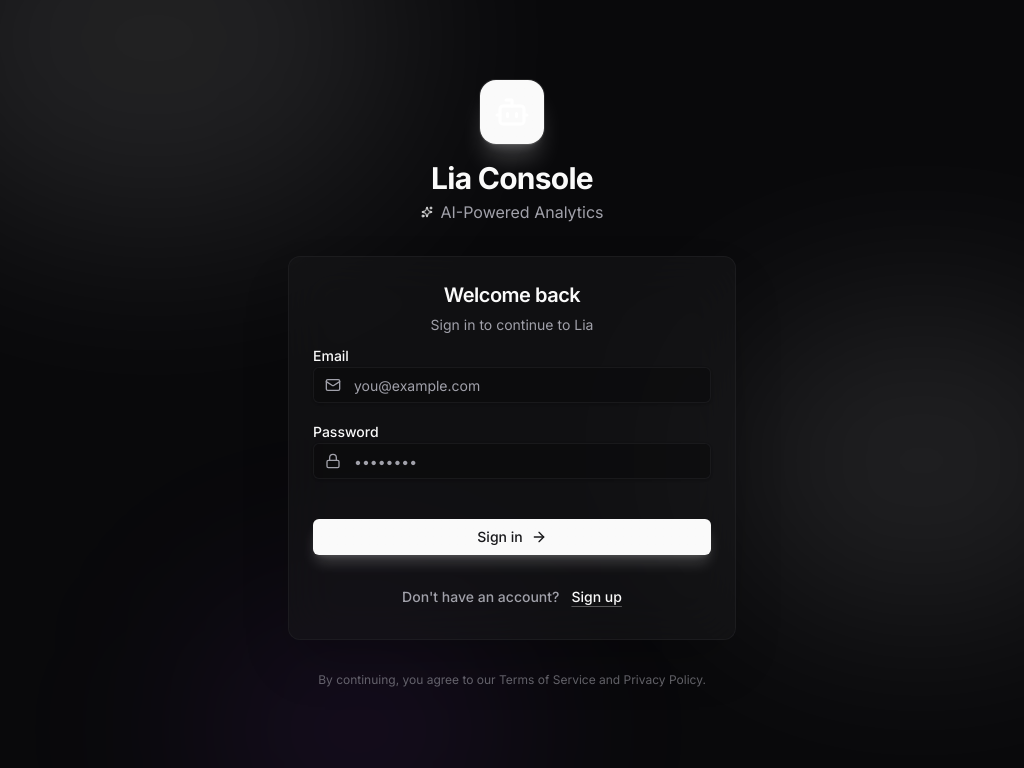
Test: AuthPage › Form Toggle › clears error when switching between login and register
In the field labelled "Email": [512, 385] box [313,367,711,403], type "test@example.com"
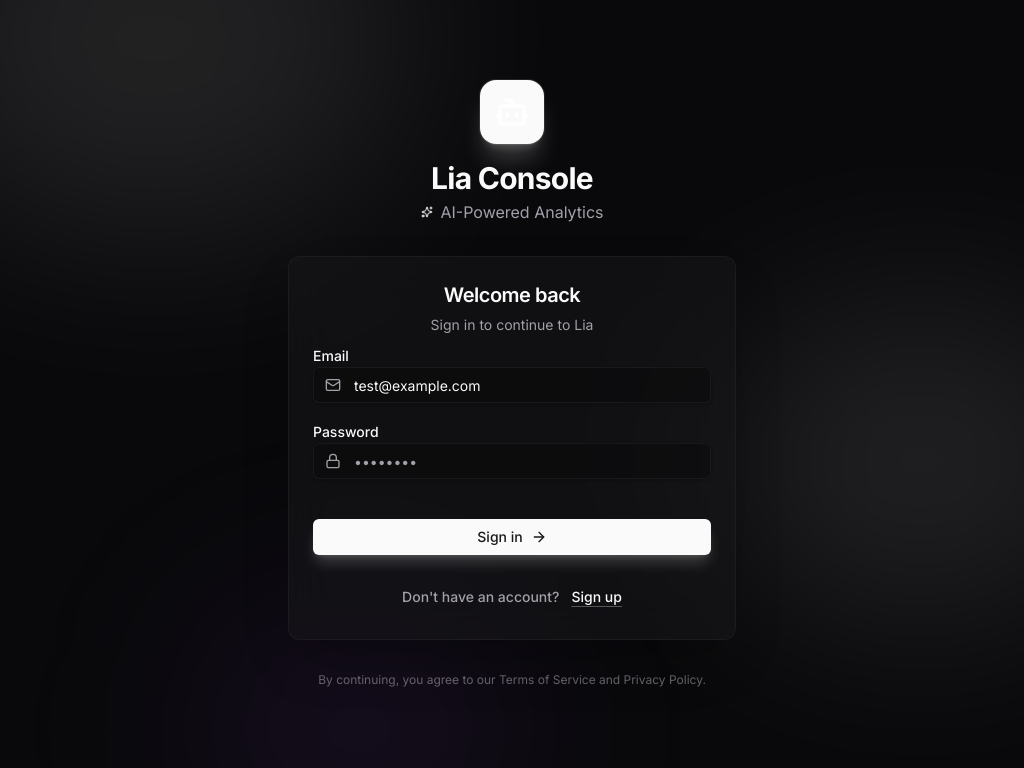
In the password field labelled "Password": [512, 461] box [313,443,711,479], type "wrongpassword"
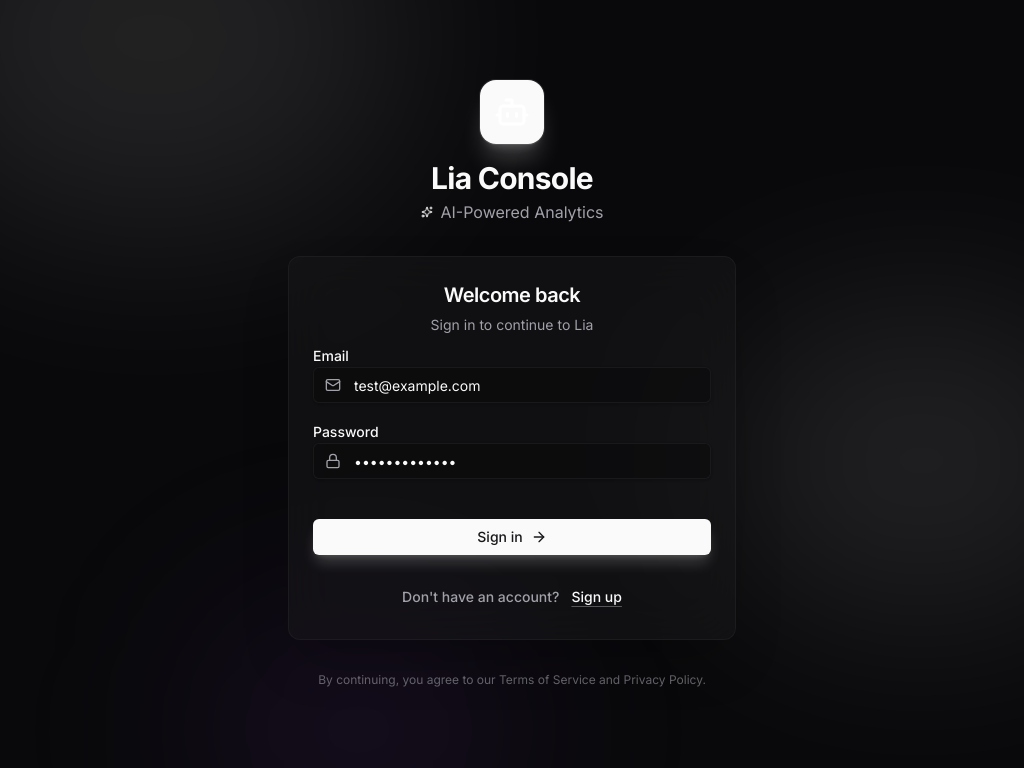
Click the button "Sign in": [512, 537] box [313,519,711,555]
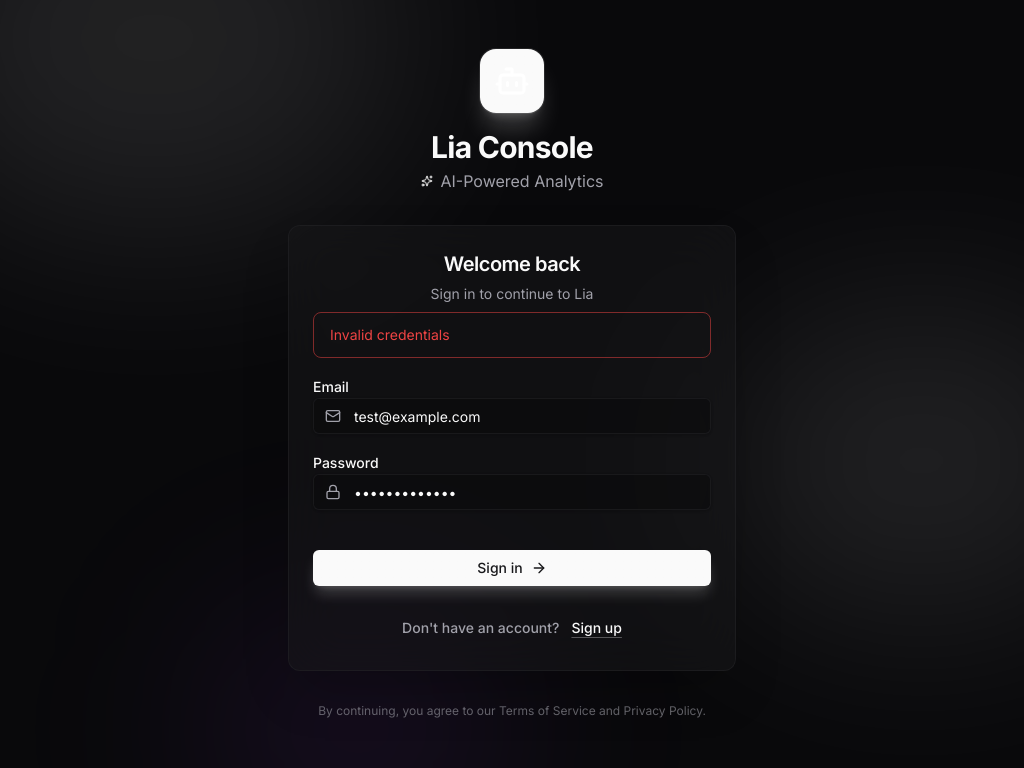
Expected: the text "Invalid credentials" is shown, [330,326,450,343]
Click the button "Don't have an account? Sign up": [512, 628] box [386,610,638,646]
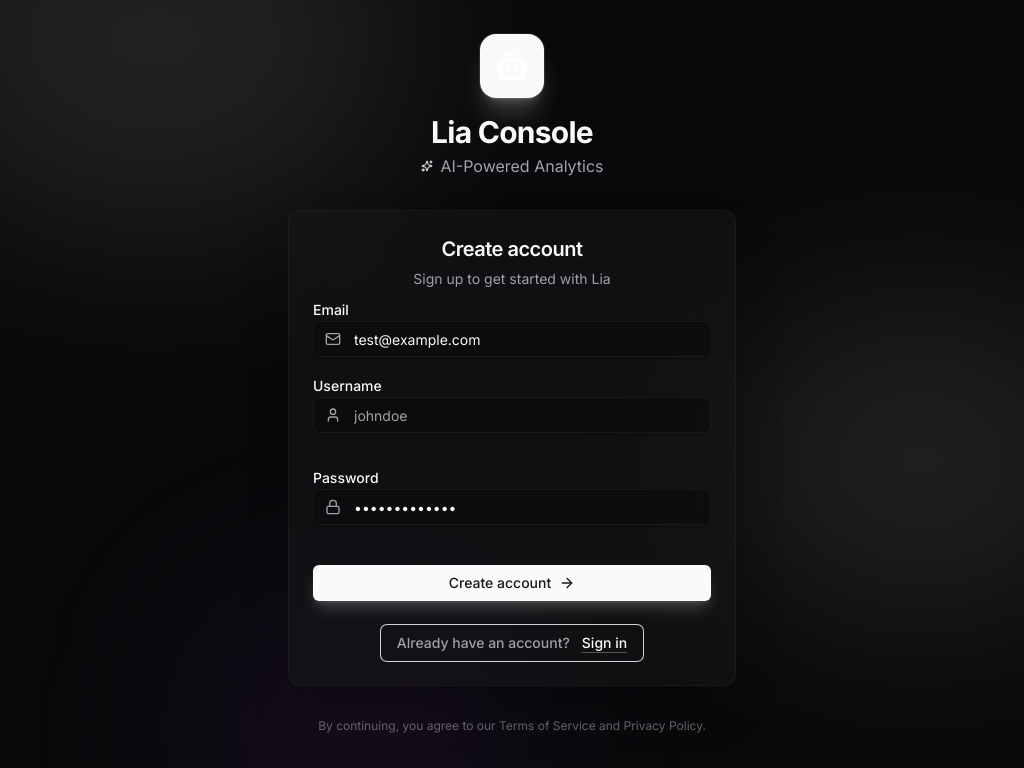
Expected: the text "Invalid credentials" is gone
